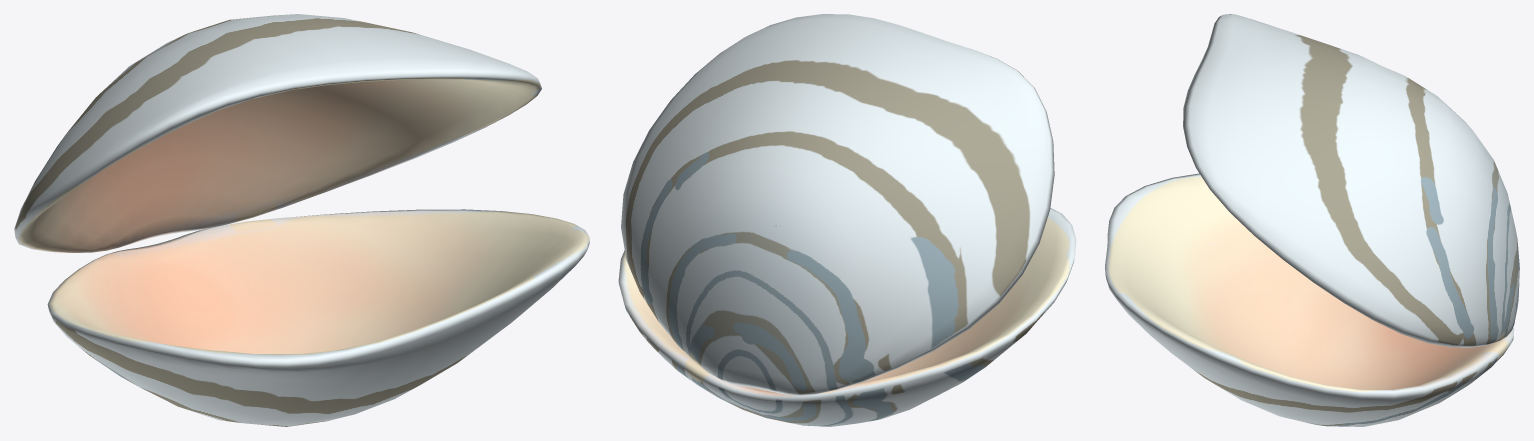
File: clam.fbx
The picture shows the model from 3 angles, left to right: view 1: azimuth 30°, elevation 25°; view 2: azimuth 150°, elevation 25°; view 3: azimuth 270°, elevation 25°; orthographic projection. The views are drawn at different scales.
Visible parts, largest first — view 1: Plane.002, Plane.001; view 2: Plane.001, Plane.002; view 3: Plane.001, Plane.002.
Boxes of the visible parts, bbox=[...] form: Plane.002: bbox=[47, 209, 589, 426]; Plane.001: bbox=[14, 14, 541, 252]; Plane.001: bbox=[621, 14, 1054, 395]; Plane.002: bbox=[618, 208, 1076, 426]; Plane.001: bbox=[1183, 14, 1519, 347]; Plane.002: bbox=[1105, 173, 1514, 426].
Bounding box in the file's own units: 221 × 171 × 191.
